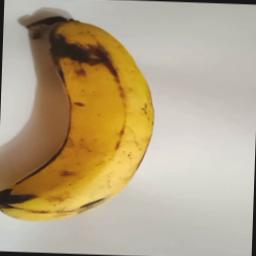Banana Unripe: (0, 14, 159, 224)
